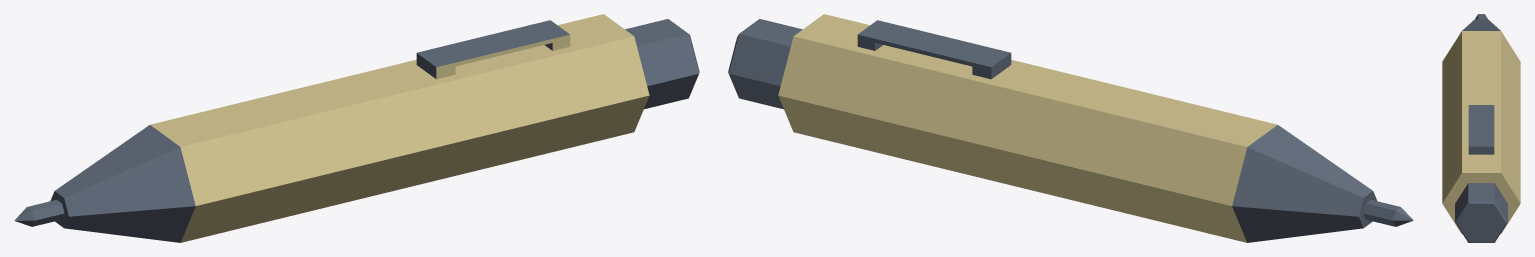
The model's file is pen_ud.fbx.
3 renders of one model, left to right at view 1: azimuth 30°, elevation 25°; view 2: azimuth 150°, elevation 25°; view 3: azimuth 270°, elevation 25°, orthographic. The views are drawn at different scales.
Visible parts, largest first — view 1: Cylinder; view 2: Cylinder; view 3: Cylinder.
Boxes of the visible parts, x1,y1,x2,y2 form: Cylinder: [14, 14, 699, 242]; Cylinder: [728, 14, 1413, 242]; Cylinder: [1442, 14, 1520, 242].
Bounding box in the file's own units: 119 × 18.44 × 18.89.
